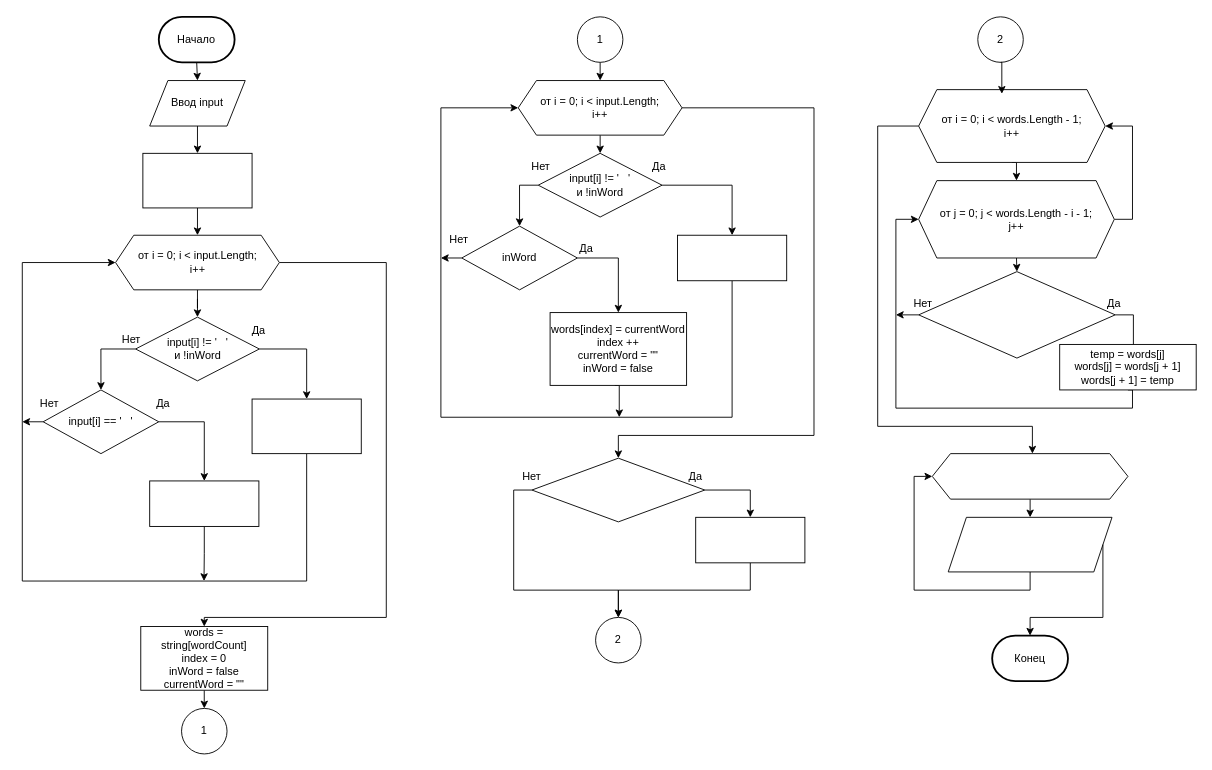
Some shapes in this 1212 by 770 pixel diagram are drawn without their labels. The shapes that lost their labels are listed below. From the top down, each one's box as (x1, y1, x2, y2) in pixels, then its label:
(142, 152, 252, 208): wordCount = 0 inWord = false
(677, 234, 787, 281): CurrentWord += input[i] inWord = true
(918, 271, 1115, 358): words[j].Length > words[j + 1].Length
(251, 398, 361, 454): wordCount ++ inWord = true
(531, 457, 705, 522): currentWord.Length > 0
(931, 453, 1128, 499): от i = 0; i < words.Length; j++
(149, 480, 259, 526): inWord = false
(695, 516, 805, 563): words[index] = currentWord
(947, 516, 1112, 572): Вывод words[i], words[i].Length
